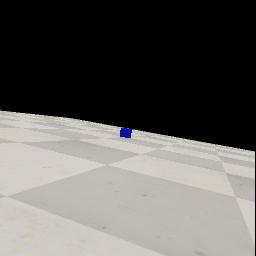box: (120, 128, 132, 138)
